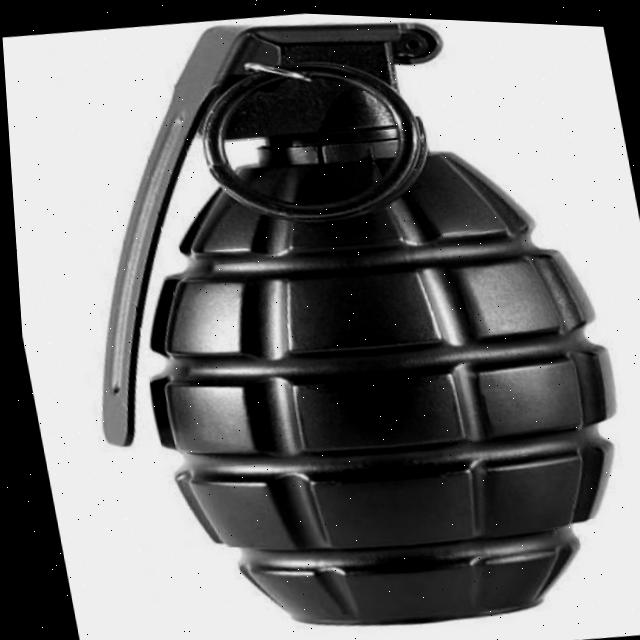grenade: (10, 0, 640, 640)
